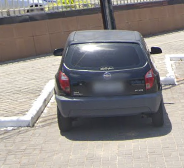car: (52, 28, 171, 133)
